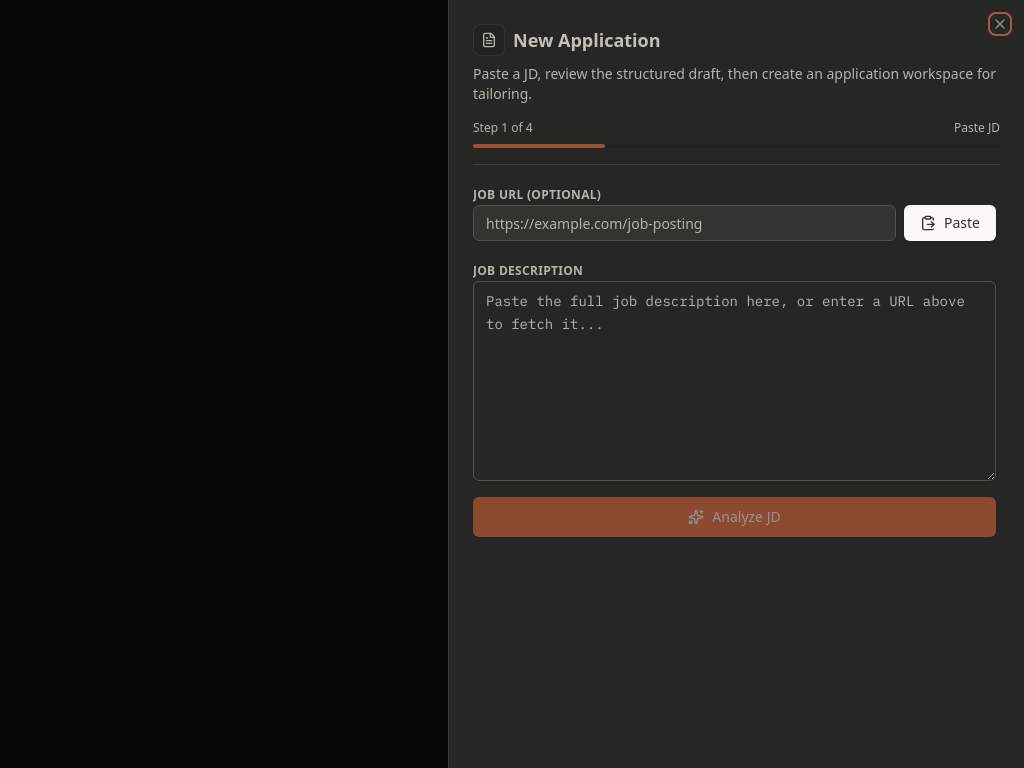
Test case: ManualImportSheet › returns to the paste step when inference fails
Replace the text in the text box with placeholder "Paste the full job description here, or enter a URL above to fetch it..." with "Backend role description." at (734, 381), box top-left (473, 281), bottom-right (996, 481)
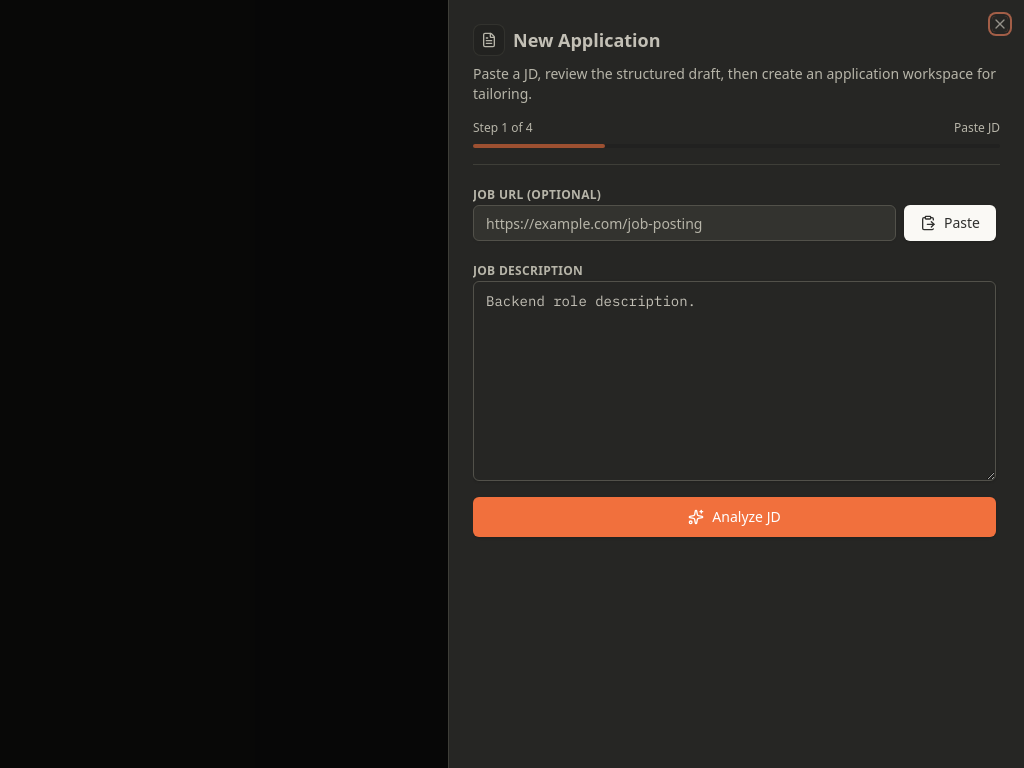
Click the button "Analyze JD" at (734, 517), box top-left (473, 497), bottom-right (996, 537)
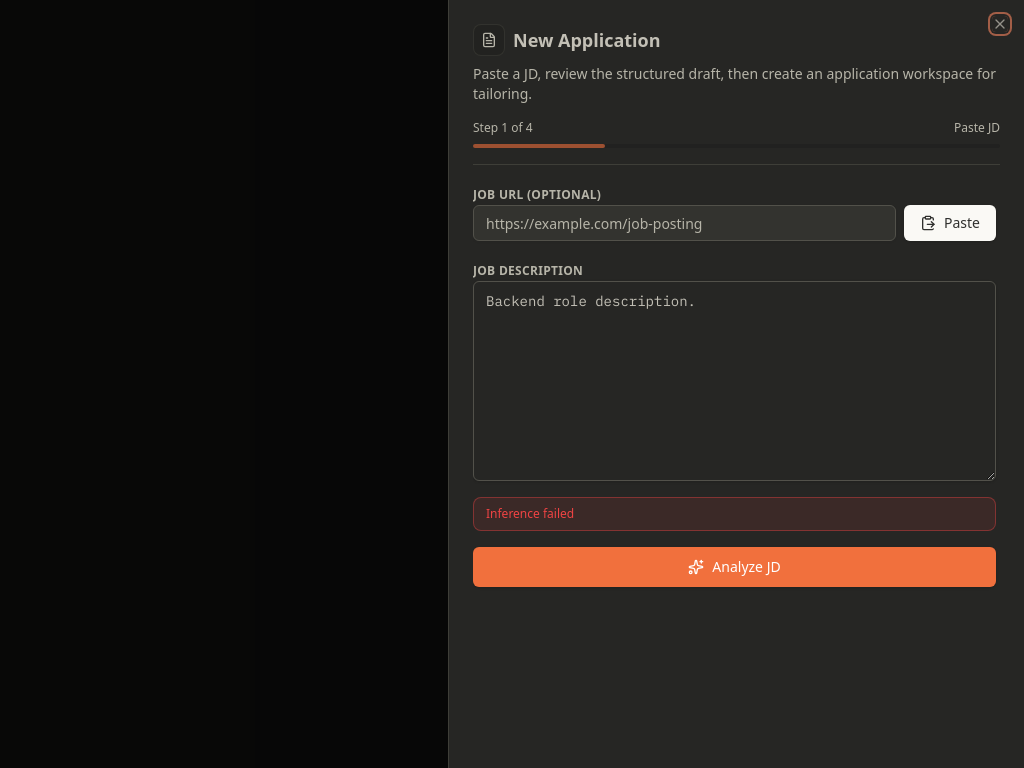
Expected: the button "Analyze JD" is shown, top-left (473, 547), bottom-right (996, 587)
Expected: the text "Inference failed" is shown, top-left (473, 497), bottom-right (996, 531)
